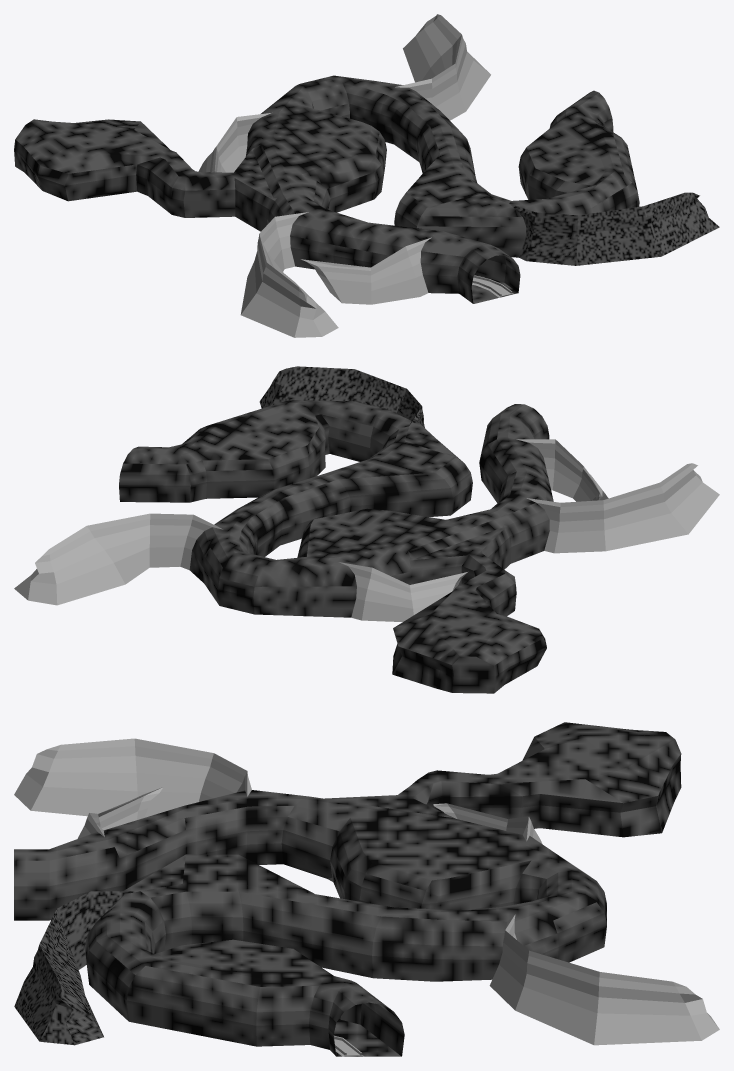
Rendered from Cave Piece 1 Test 4.fbx.
3 views of the same model, one above another, from view 1: azimuth 30°, elevation 25°; view 2: azimuth 150°, elevation 25°; view 3: azimuth 270°, elevation 25° (orthographic). The views are drawn at different scales.
Visible parts, largest first — view 1: polySurface4, Tunnel_6, Tunnel_1, Tunnel_2, Tunnel_3, Tunnel_5; view 2: polySurface4, Tunnel_2, Tunnel_1, Tunnel_6, Tunnel_5, Tunnel_3; view 3: polySurface4, Tunnel_2, Tunnel_1, Tunnel_6, Tunnel_3, Tunnel_5.
Boxes of the visible parts, <box> form: polySurface4: <box>14,75,639,303</box>; Tunnel_6: <box>509,192,719,265</box>; Tunnel_1: <box>240,212,338,337</box>; Tunnel_2: <box>395,14,490,120</box>; Tunnel_3: <box>301,237,431,304</box>; Tunnel_5: <box>198,113,270,172</box>; polySurface4: <box>119,400,553,693</box>; Tunnel_2: <box>14,513,222,605</box>; Tunnel_1: <box>526,463,719,553</box>; Tunnel_6: <box>259,366,424,427</box>; Tunnel_5: <box>339,562,467,621</box>; Tunnel_3: <box>516,439,608,501</box>; polySurface4: <box>14,722,681,1056</box>; Tunnel_2: <box>489,914,719,1045</box>; Tunnel_1: <box>14,738,251,817</box>; Tunnel_6: <box>14,891,138,1045</box>; Tunnel_3: <box>77,787,163,838</box>; Tunnel_5: <box>433,803,542,843</box>.
Bounding box in the file's own units: 19.82 × 1.97 × 19.88.
